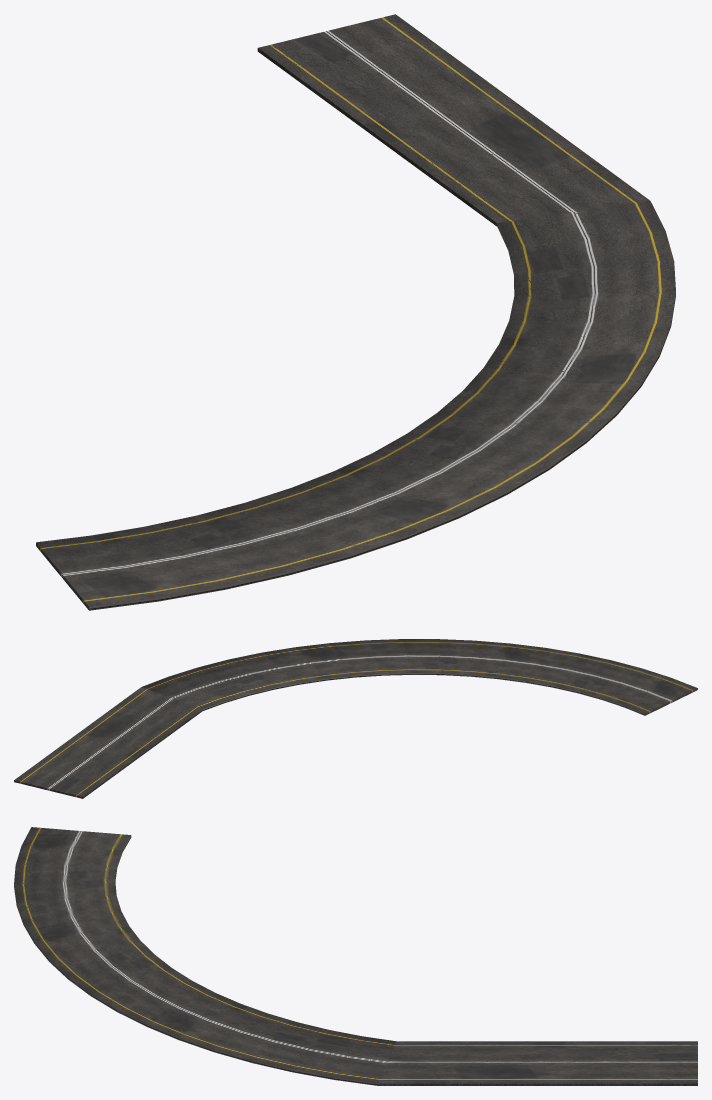
Rendered from CARRETERA2.fbx.
3 renders of one model, top to bottom at view 1: azimuth 30°, elevation 25°; view 2: azimuth 150°, elevation 25°; view 3: azimuth 270°, elevation 25°, orthographic. The views are drawn at different scales.
Parts seen in each view (by area): view 1: Plano.012; view 2: Plano.012; view 3: Plano.012.
Part boxes in pixels (bbox=[...]): Plano.012: bbox=[36, 14, 675, 610]; Plano.012: bbox=[14, 639, 697, 798]; Plano.012: bbox=[14, 827, 697, 1085].
Size of the model in its own units: 16642 by 70.7 by 18750.
